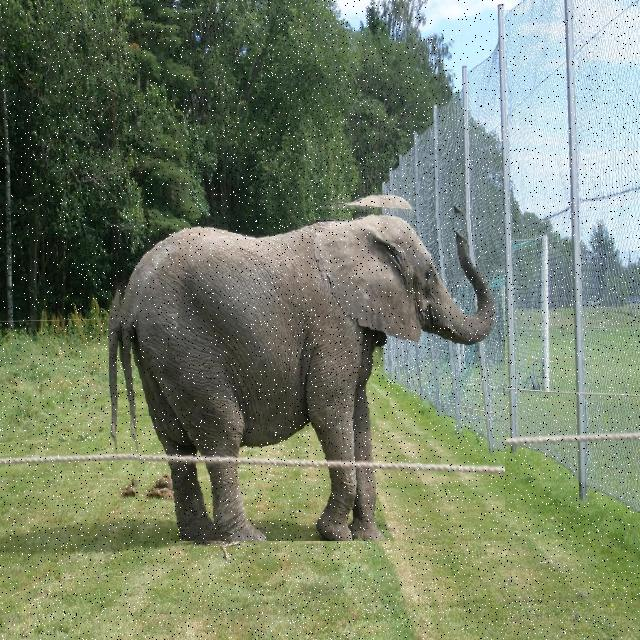elephant: (110, 187, 505, 541)
